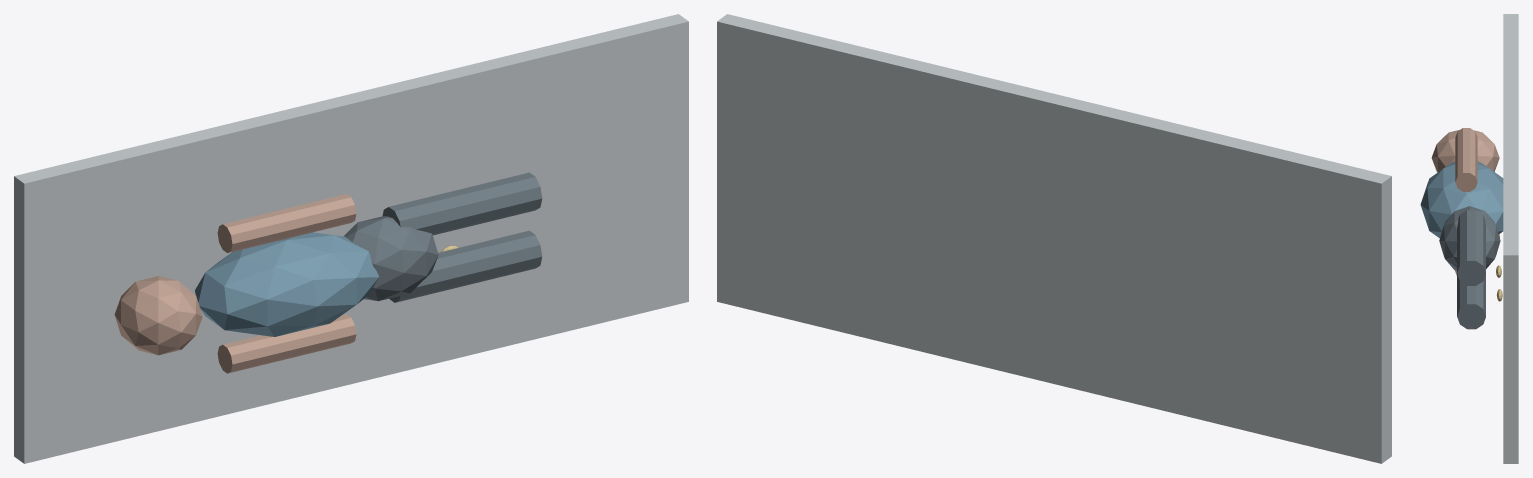
File: lateral-low.glb
3 renders of one model, left to right at view 1: azimuth 30°, elevation 25°; view 2: azimuth 150°, elevation 25°; view 3: azimuth 270°, elevation 25°, orthographic. The views are drawn at different scales.
Visible parts, largest first — view 1: reference_surface, torso, right_leg, head, pelvis, left_leg, right_arm, left_arm; view 2: reference_surface; view 3: reference_surface, torso, right_leg, pelvis, right_arm, head, left_leg.
Boxes of the visible parts, <box> form: reference_surface: <box>14,14,688,463</box>; torso: <box>195,232,378,336</box>; right_leg: <box>382,172,542,235</box>; head: <box>114,276,202,355</box>; pelvis: <box>343,216,438,301</box>; left_leg: <box>389,230,542,302</box>; right_arm: <box>217,194,356,252</box>; left_arm: <box>217,314,356,373</box>; reference_surface: <box>717,14,1391,463</box>; reference_surface: <box>1503,14,1518,463</box>; torso: <box>1420,162,1503,238</box>; right_leg: <box>1457,210,1485,285</box>; pelvis: <box>1439,206,1500,270</box>; right_arm: <box>1455,128,1477,191</box>; head: <box>1431,130,1499,172</box>; left_leg: <box>1457,274,1485,329</box>.
Size of the model in its own units: 6.7 by 2.7 by 1.15.
